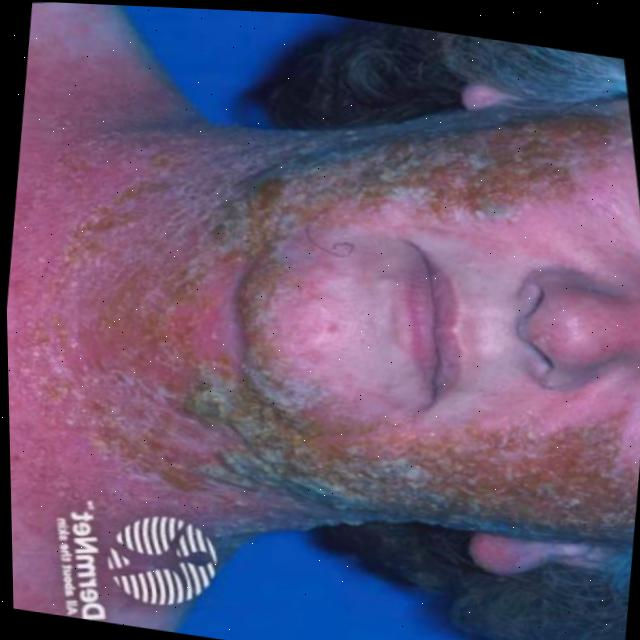Eczema: (2, 73, 629, 532)
